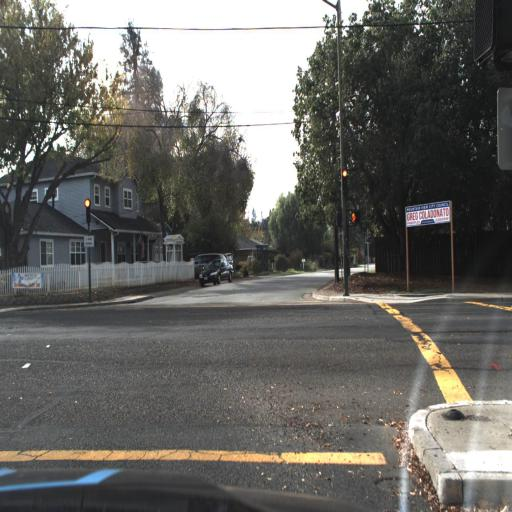car: (198, 260, 233, 288)
trafficLight: (84, 197, 90, 222)
trafficLight-Red: (340, 166, 348, 195)
